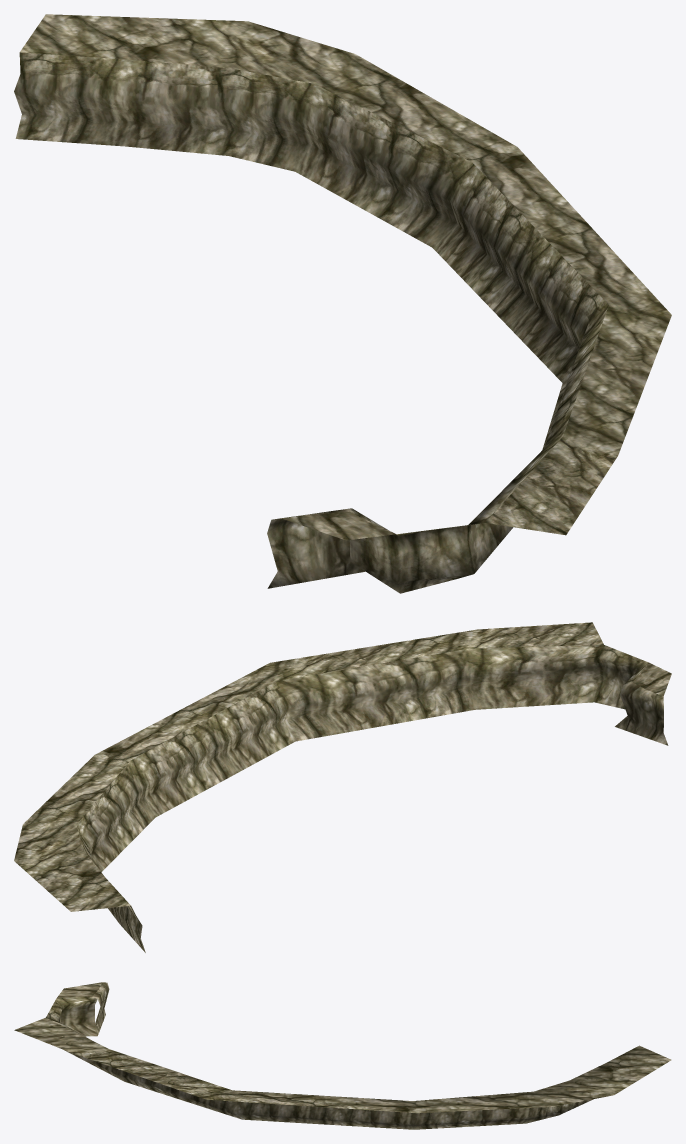
The model's file is CB_NEWPLAYSURFACE_CB_PLAYSURFACE80.fbx.
3 renders of one model, top to bottom at view 1: azimuth 30°, elevation 25°; view 2: azimuth 150°, elevation 25°; view 3: azimuth 270°, elevation 25°, orthographic. The views are drawn at different scales.
Parts seen in each view (by area): view 1: CB_NEWPLAYSURFACE_CB_PLAYSURFACE80; view 2: CB_NEWPLAYSURFACE_CB_PLAYSURFACE80; view 3: CB_NEWPLAYSURFACE_CB_PLAYSURFACE80.
Boxes of the visible parts, <box> form: CB_NEWPLAYSURFACE_CB_PLAYSURFACE80: <box>14,14,671,593</box>; CB_NEWPLAYSURFACE_CB_PLAYSURFACE80: <box>14,622,671,952</box>; CB_NEWPLAYSURFACE_CB_PLAYSURFACE80: <box>14,982,671,1129</box>.
Bounding box in the file's own units: 264303 × 34809 × 535656.
Materials: 2 (2 with a texture image).
